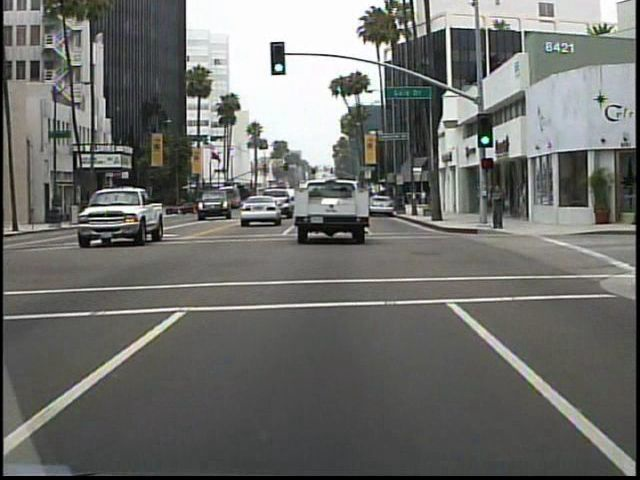person: (488, 179, 507, 234)
